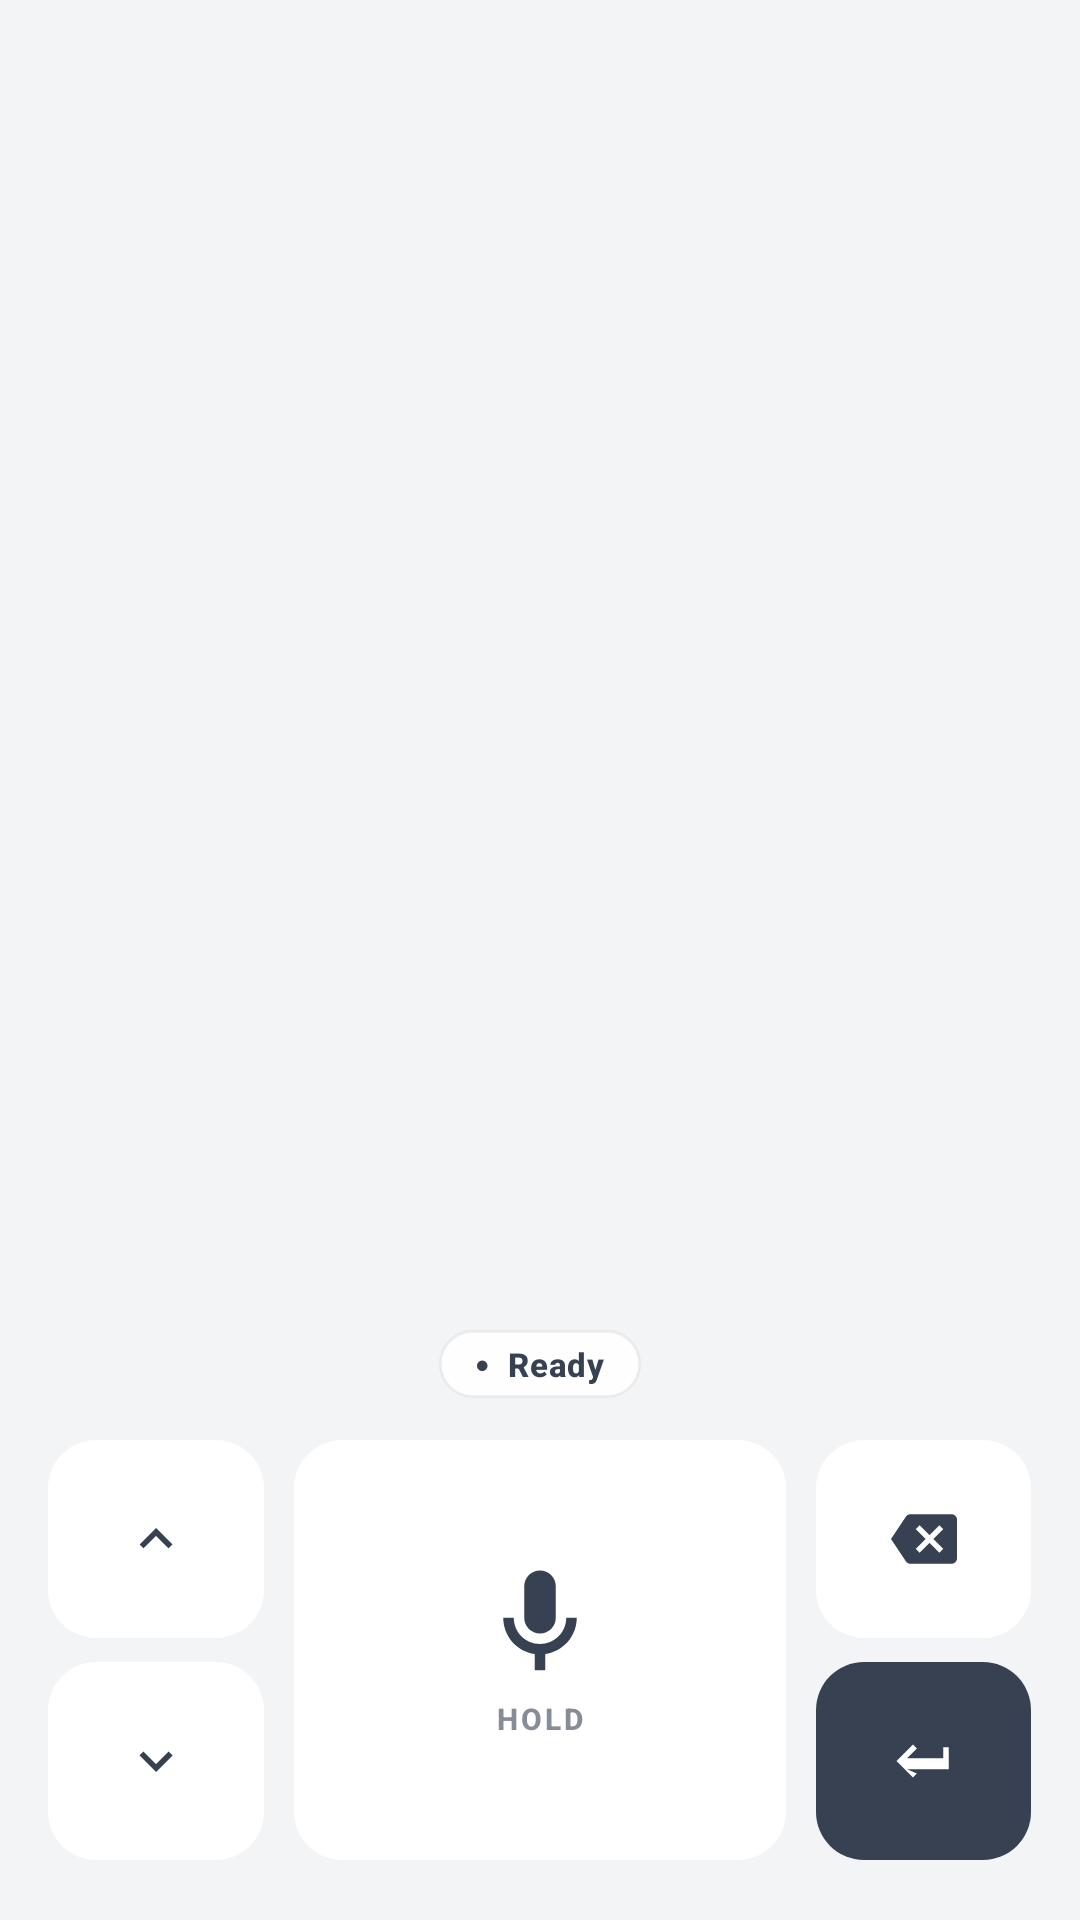

Icons on this 1080px x 1920px Android screen, each with the point to tap as [x,y]:
Backspace: [924,1539]
Down: [156,1761]
Enter: [923,1761]
mic: [540,1620]
Up: [156,1539]
